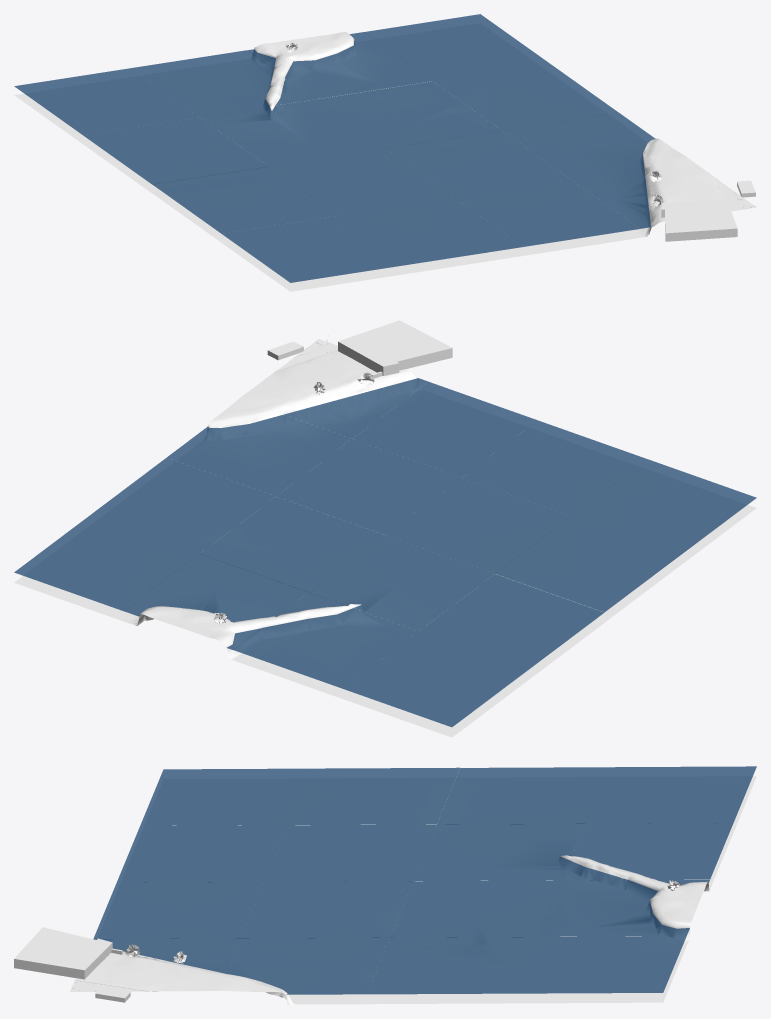
3 views of the same model, one above another, from view 1: azimuth 30°, elevation 25°; view 2: azimuth 150°, elevation 25°; view 3: azimuth 270°, elevation 25° (orthographic). The views are drawn at different scales.
Parts seen in each view (by area): view 1: geopipeinodedzBrfbI1, geopipeinodeQ5r2CuRB, geopipeinodexDmph2H7 (×2); view 2: geopipeinodedzBrfbI1, geopipeinodeQ5r2CuRB, geopipeinodexDmph2H7 (×2); view 3: geopipeinodedzBrfbI1, geopipeinodeQ5r2CuRB, geopipeinodexDmph2H7 (×2).
Part boxes in pixels (x1,y1,x2,y2): geopipeinodedzBrfbI1: [14, 23, 756, 291]; geopipeinodeQ5r2CuRB: [14, 14, 655, 282]; geopipeinodexDmph2H7 (×2): [661, 199, 737, 241]; geopipeinodedzBrfbI1: [14, 339, 756, 737]; geopipeinodeQ5r2CuRB: [14, 378, 756, 727]; geopipeinodexDmph2H7 (×2): [338, 320, 452, 375]; geopipeinodedzBrfbI1: [70, 776, 756, 1004]; geopipeinodeQ5r2CuRB: [93, 766, 756, 994]; geopipeinodexDmph2H7 (×2): [14, 927, 112, 978].
Bounding box in the file's own units: 527 × 689 × 27.45.
